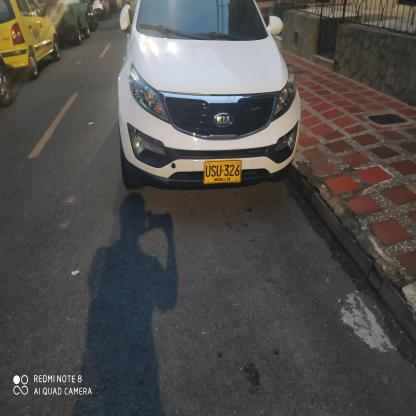placa: (202, 159, 242, 186)
